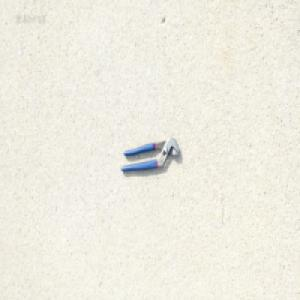Pliers: (119, 135, 180, 172)
